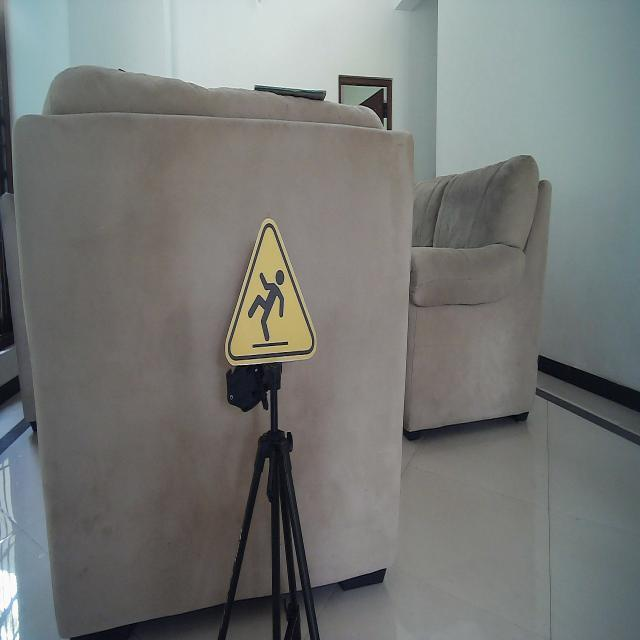slippery_sign: (224, 216, 318, 368)
